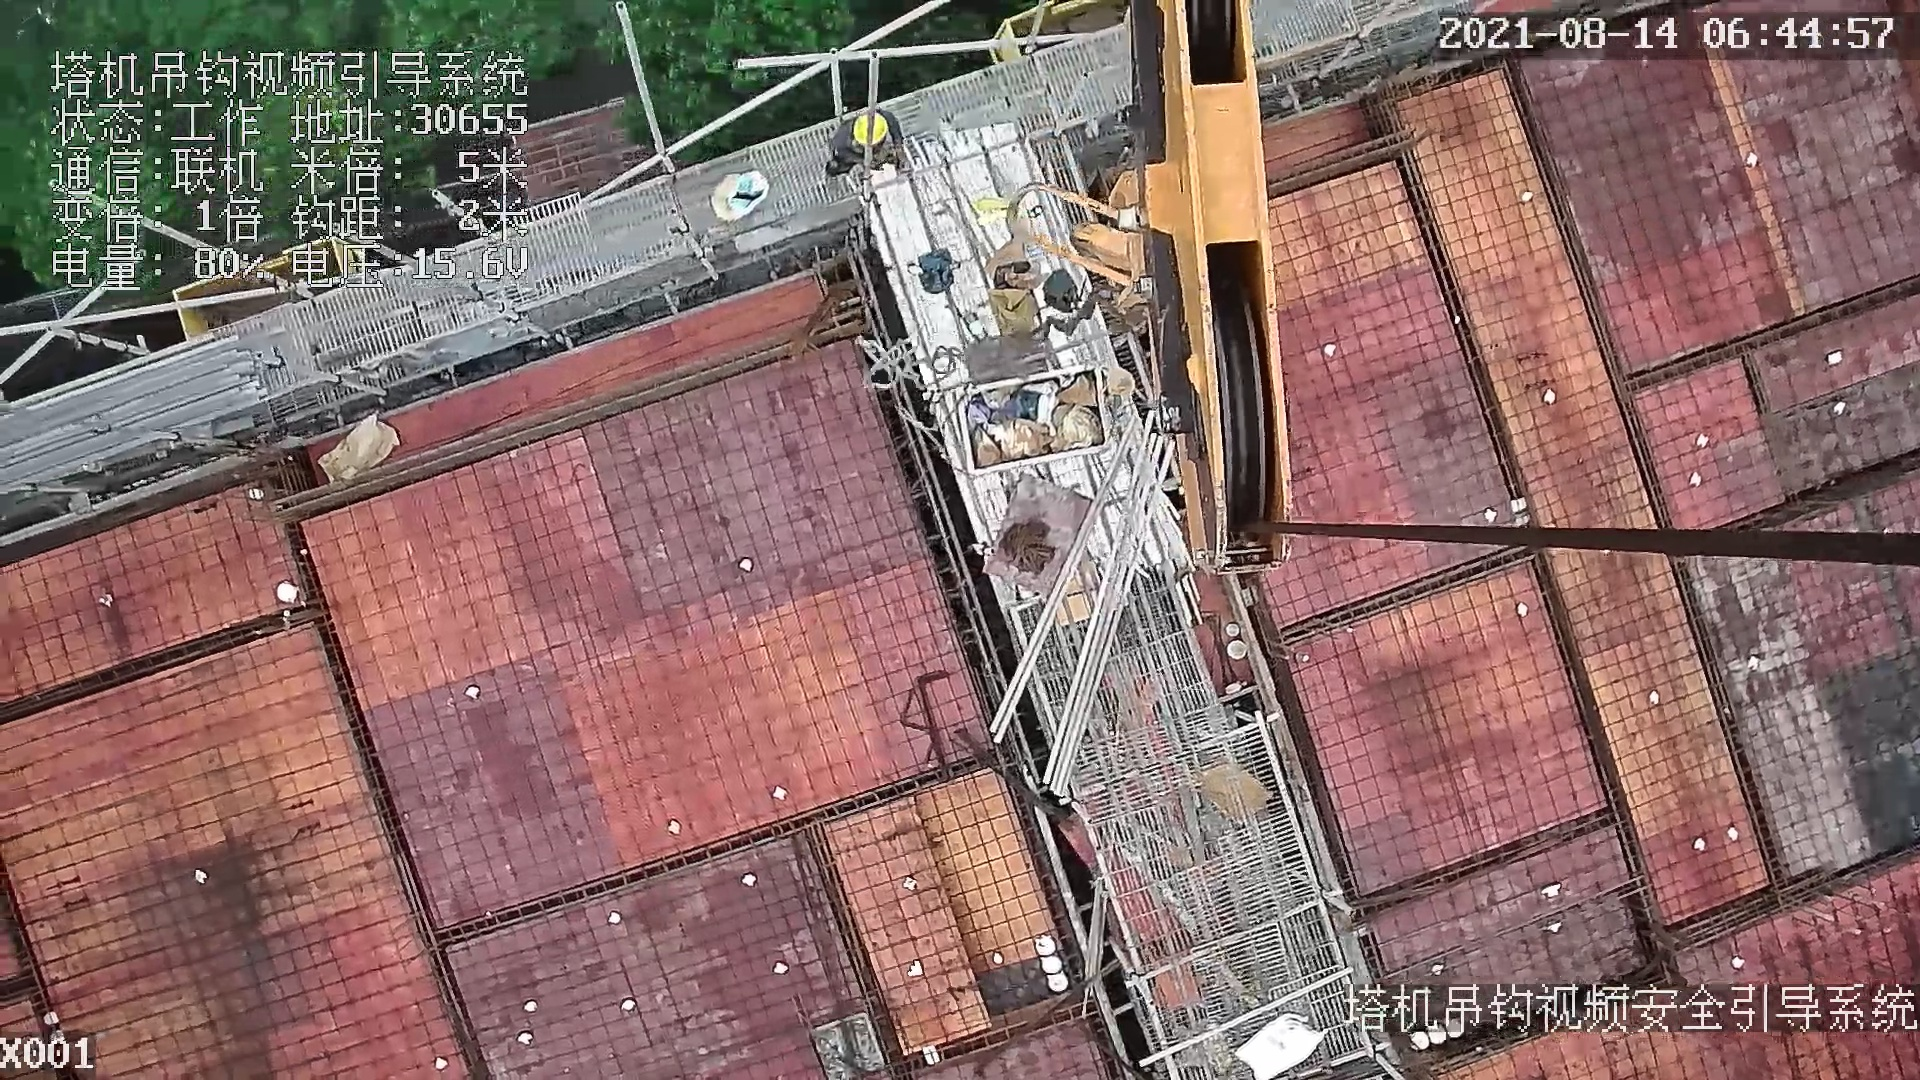helmet: (855, 112, 886, 145)
hook: (1001, 3, 1303, 577)
person: (819, 118, 923, 181)
